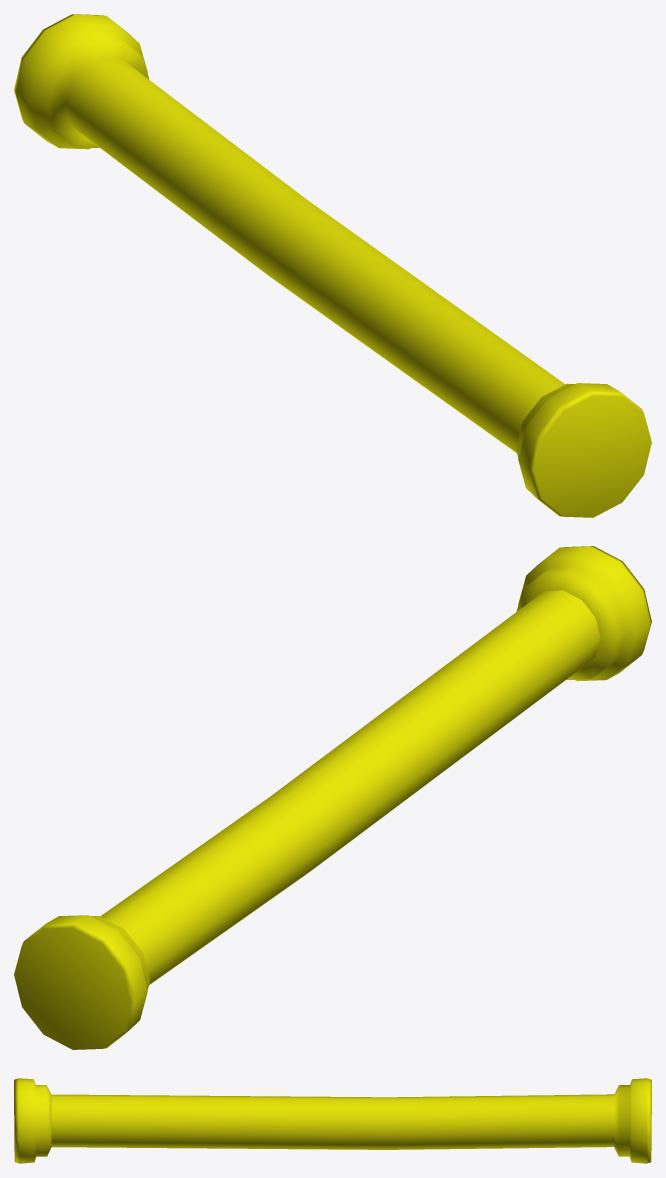
The model's file is Rail_Rock_01.fbx.
The picture shows the model from 3 angles, top to bottom: view 1: azimuth 30°, elevation 25°; view 2: azimuth 150°, elevation 25°; view 3: azimuth 270°, elevation 25°; orthographic projection. The views are drawn at different scales.
Parts seen in each view (by area): view 1: Rail_Rock_01; view 2: Rail_Rock_01; view 3: Rail_Rock_01.
Part boxes in pixels (x1,y1,x2,y2): Rail_Rock_01: [14, 14, 651, 517]; Rail_Rock_01: [14, 546, 651, 1049]; Rail_Rock_01: [14, 1078, 651, 1163].
Bounding box in the file's own units: 25.57 × 25.56 × 190.
